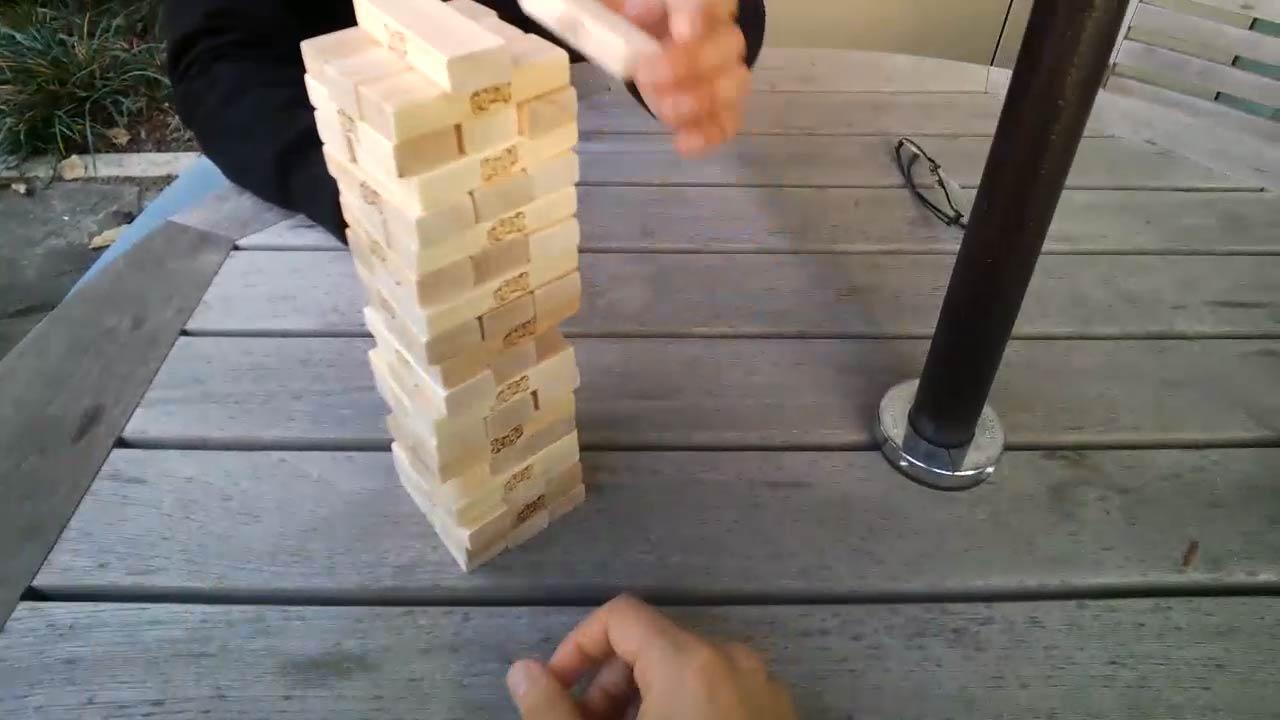hand: (491, 590, 829, 720), (608, 1, 756, 161)
